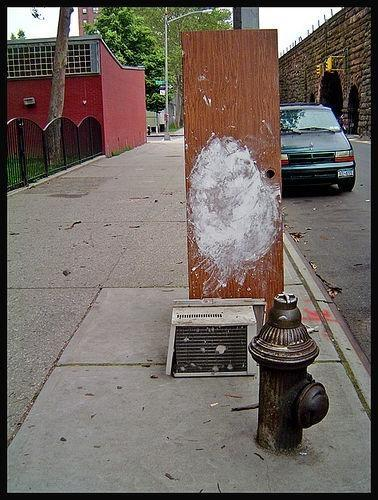car: (280, 104, 357, 197)
